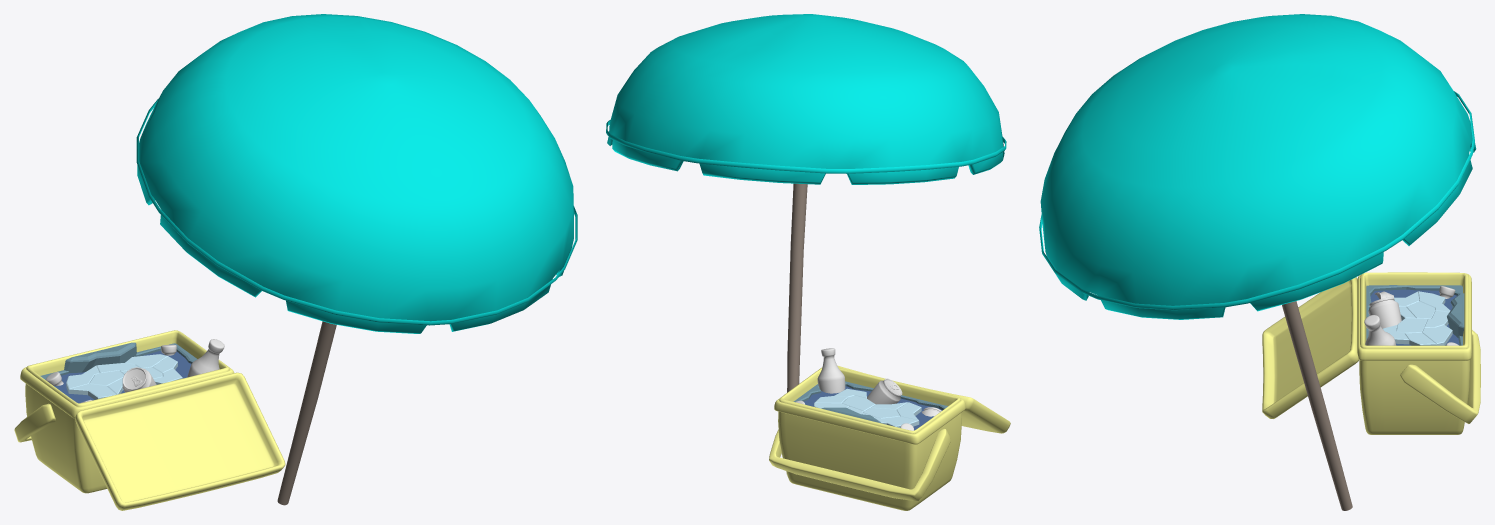
File: IceBox_Map_02.fbx
3 renders of one model, left to right at view 1: azimuth 30°, elevation 25°; view 2: azimuth 150°, elevation 25°; view 3: azimuth 270°, elevation 25°, orthographic. The views are drawn at different scales.
Visible parts, largest first — view 1: Cylinder.003, Cube.048, Cylinder.013, Cube.060, Cube.059; view 2: Cylinder.003, Cube.048, Cylinder.013, Cube.059; view 3: Cylinder.003, Cube.048, Cylinder.013, Cube.059, Cube.060.
Part boxes in pixels (<box>): Cylinder.003: <box>136,14,577,505</box>; Cube.048: <box>14,330,285,510</box>; Cylinder.013: <box>45,339,224,402</box>; Cube.060: <box>64,342,136,373</box>; Cube.059: <box>40,343,197,403</box>; Cylinder.003: <box>606,14,1006,392</box>; Cube.048: <box>769,365,1010,510</box>; Cylinder.013: <box>795,348,941,430</box>; Cube.059: <box>793,381,947,430</box>; Cylinder.003: <box>1039,14,1476,510</box>; Cube.048: <box>1262,272,1480,434</box>; Cylinder.013: <box>1364,286,1458,345</box>; Cube.059: <box>1366,285,1462,345</box>; Cube.060: <box>1447,293,1464,337</box>.
Size of the model in its own units: 25811 by 26838 by 22978.
